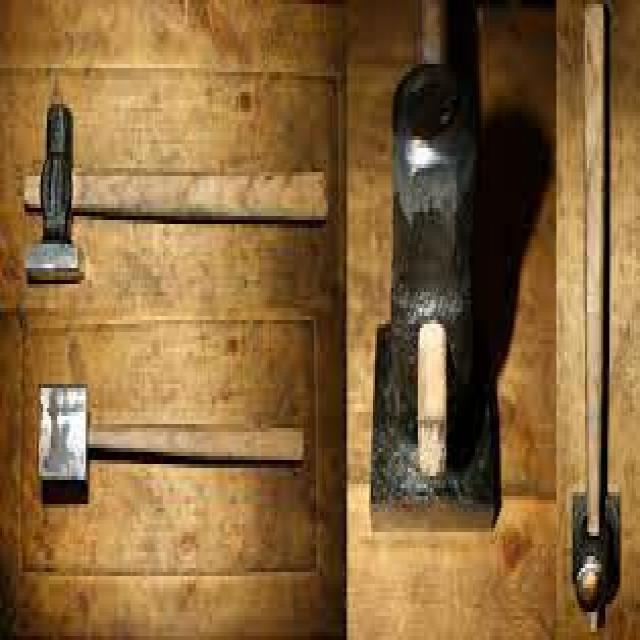hammer: (358, 0, 534, 576), (16, 84, 336, 288), (566, 0, 634, 624), (28, 362, 310, 498)
